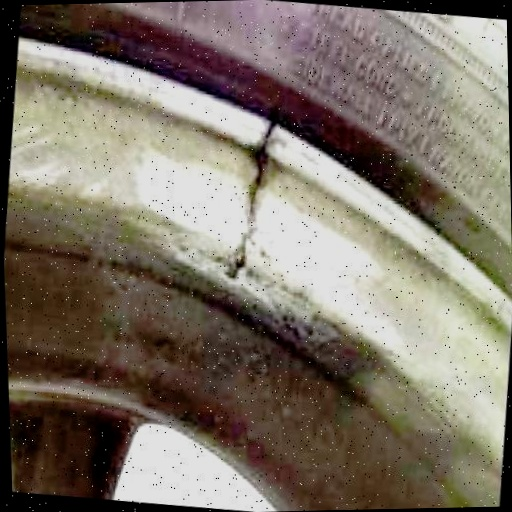crack: (206, 115, 301, 315)
